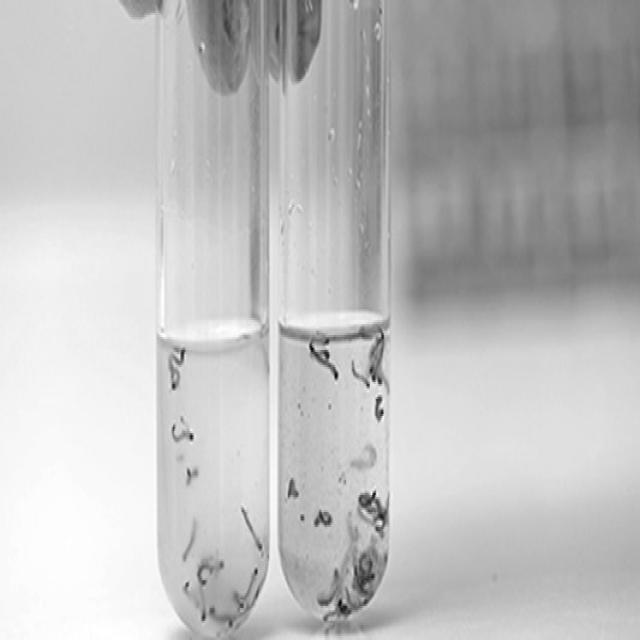larvas: (309, 342, 339, 380), (242, 506, 262, 551), (317, 571, 338, 604), (183, 518, 195, 562), (352, 360, 370, 389), (373, 335, 384, 382), (352, 447, 376, 468), (183, 580, 199, 610), (242, 569, 258, 599), (355, 568, 370, 600), (368, 338, 382, 372), (210, 606, 238, 621), (197, 562, 214, 584), (172, 425, 194, 441), (348, 511, 360, 539), (167, 351, 184, 370), (372, 493, 386, 514), (199, 586, 207, 622), (316, 508, 332, 526), (375, 394, 385, 422), (246, 590, 258, 610), (228, 611, 242, 628), (359, 572, 375, 586), (374, 513, 386, 531), (185, 468, 199, 483), (323, 609, 342, 620), (234, 592, 244, 612), (170, 370, 180, 389), (320, 338, 330, 357), (289, 478, 298, 498), (359, 494, 372, 507), (339, 598, 350, 612), (360, 551, 367, 573), (378, 358, 383, 386), (214, 562, 224, 570)
